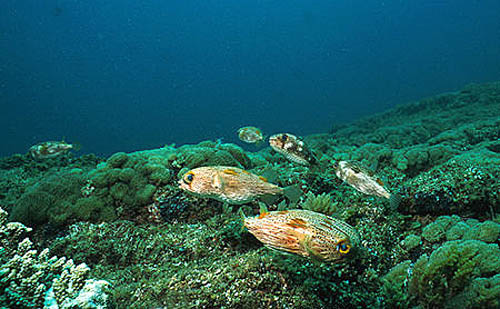Diodon_holocanthus: (238, 207, 364, 268), (178, 162, 286, 202)
